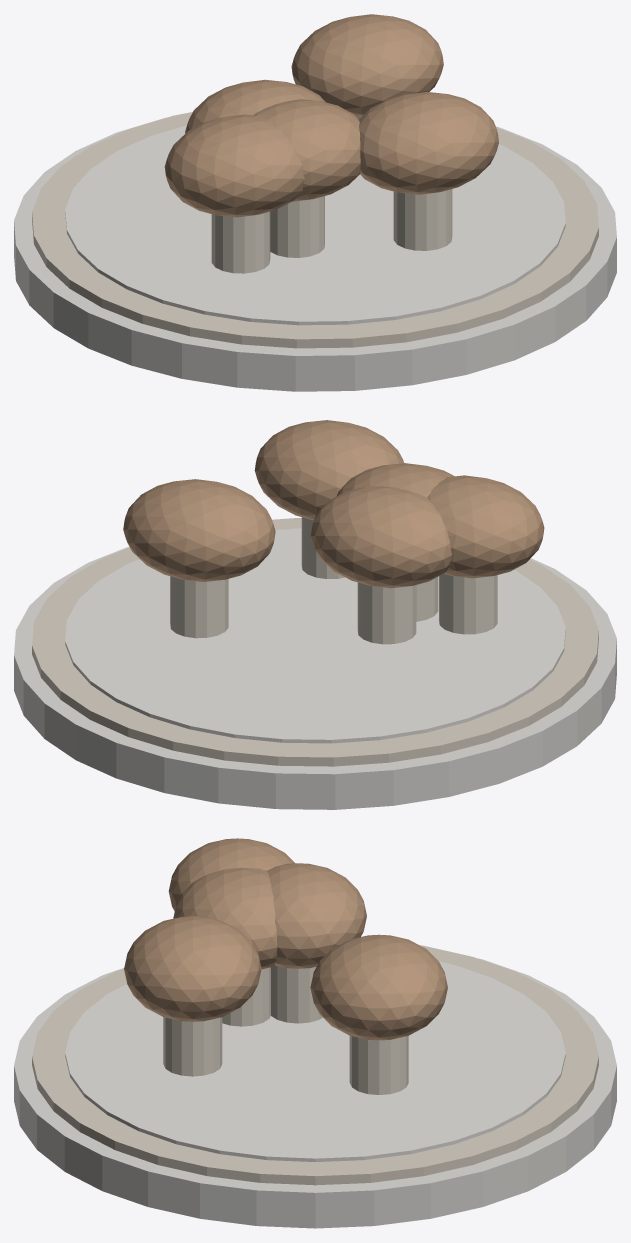
The model's file is nam.glb.
The picture shows the model from 3 angles, top to bottom: view 1: azimuth 30°, elevation 25°; view 2: azimuth 150°, elevation 25°; view 3: azimuth 270°, elevation 25°; orthographic projection.
Visible parts, largest first — view 1: obj_0002, obj_0000, obj_0001, obj_0016, obj_0007, obj_0013, obj_0004, obj_0006, obj_0015, obj_0010, obj_0003; view 2: obj_0002, obj_0000, obj_0001, obj_0013, obj_0010, obj_0016, obj_0007, obj_0009, obj_0012, obj_0006, obj_0004, obj_0015 (+1 smaller); view 3: obj_0002, obj_0000, obj_0001, obj_0016, obj_0013, obj_0010, obj_0004, obj_0007, obj_0015, obj_0012, obj_0009, obj_0003.
Boxes of the visible parts, bbox=[...] form: obj_0002: bbox=[65, 125, 565, 325]; obj_0000: bbox=[14, 118, 616, 391]; obj_0001: bbox=[32, 112, 598, 348]; obj_0016: bbox=[358, 92, 498, 194]; obj_0007: bbox=[164, 114, 304, 217]; obj_0013: bbox=[291, 14, 443, 116]; obj_0004: bbox=[253, 99, 360, 201]; obj_0006: bbox=[211, 211, 270, 273]; obj_0015: bbox=[393, 189, 452, 250]; obj_0010: bbox=[185, 79, 325, 133]; obj_0003: bbox=[270, 196, 324, 257]; obj_0002: bbox=[65, 528, 565, 743]; obj_0000: bbox=[14, 546, 616, 809]; obj_0001: bbox=[32, 518, 598, 766]; obj_0013: bbox=[123, 479, 275, 581]; obj_0010: bbox=[310, 486, 451, 588]; obj_0016: bbox=[254, 420, 403, 520]; obj_0007: bbox=[427, 475, 544, 578]; obj_0009: bbox=[357, 582, 416, 644]; obj_0012: bbox=[170, 576, 228, 638]; obj_0006: bbox=[439, 574, 497, 634]; obj_0004: bbox=[337, 463, 454, 497]; obj_0015: bbox=[301, 517, 344, 578]; obj_0002: bbox=[65, 961, 565, 1161]; obj_0000: bbox=[14, 958, 616, 1228]; obj_0001: bbox=[32, 945, 598, 1185]; obj_0016: bbox=[124, 916, 261, 1021]; obj_0013: bbox=[310, 934, 447, 1040]; obj_0010: bbox=[267, 863, 366, 968]; obj_0004: bbox=[173, 867, 277, 969]; obj_0007: bbox=[168, 838, 294, 911]; obj_0015: bbox=[163, 1017, 222, 1076]; obj_0012: bbox=[349, 1036, 408, 1094]; obj_0009: bbox=[271, 965, 322, 1023]; obj_0003: bbox=[222, 967, 270, 1026].
Size of the model in its own units: 1.84 by 0.66 by 1.84.
